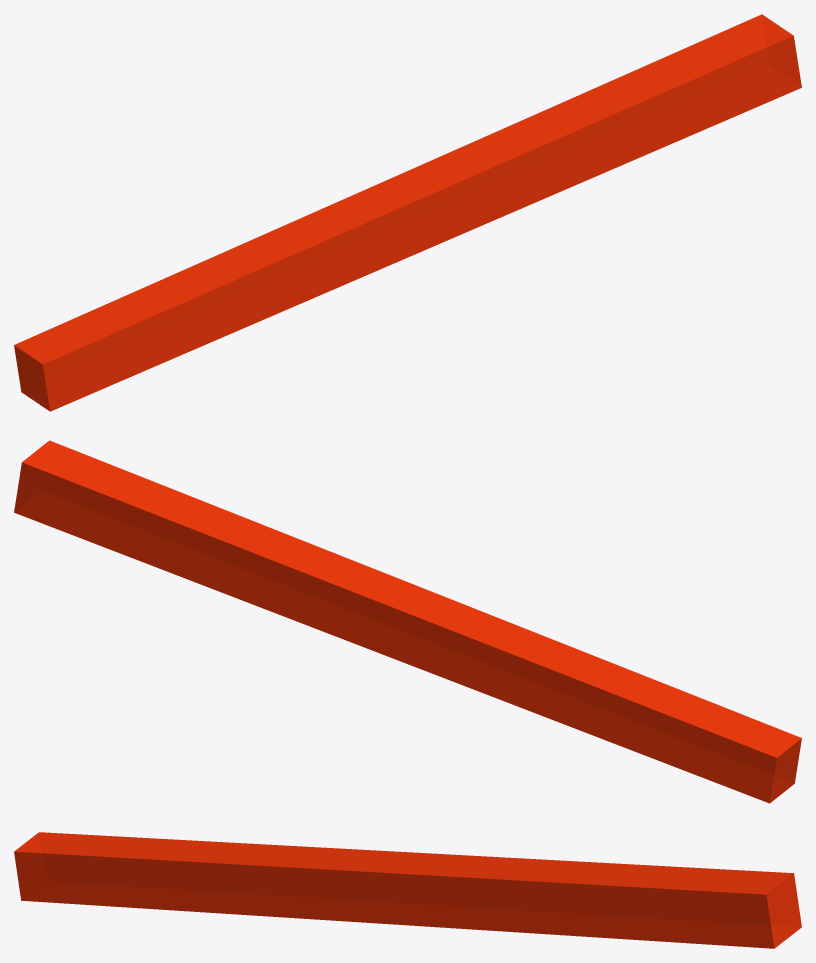
File: Event_421115418_EErechit_69.fbx
The picture shows the model from 3 angles, top to bottom: view 1: azimuth 30°, elevation 25°; view 2: azimuth 150°, elevation 25°; view 3: azimuth 330°, elevation 25°; orthographic projection. The views are drawn at different scales.
Parts seen in each view (by area): view 1: Model; view 2: Model; view 3: Model.
Part boxes in pixels (x1,y1,x2,y2): Model: (14,14,801,411); Model: (14,440,801,803); Model: (14,832,801,948).
Bounding box in the file's own units: 1.19 × 0.2647 × 0.1173.
